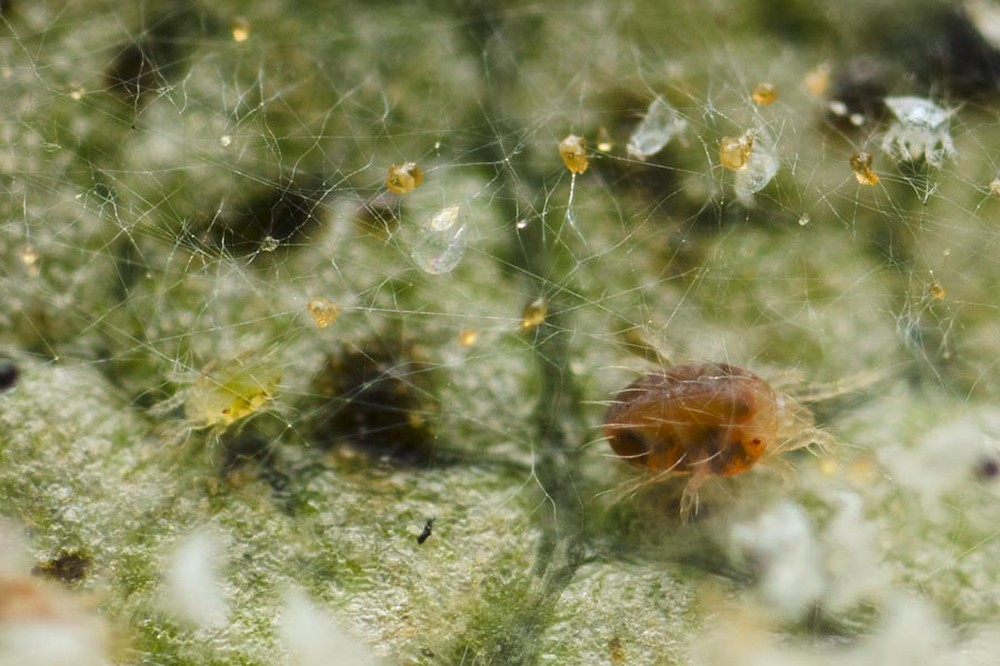Aracnido Rojo: (571, 346, 886, 522), (145, 336, 305, 456)
